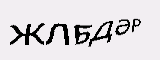Б: (73, 22, 92, 45)
Д: (88, 19, 114, 47)
Ж: (7, 21, 45, 47)
Л: (44, 23, 71, 46)
Р: (131, 17, 141, 34)
Ә: (114, 17, 130, 36)
